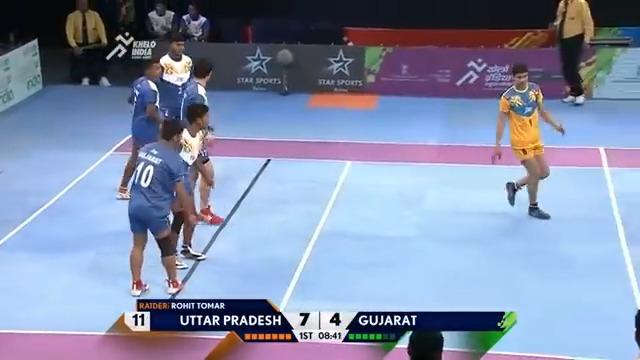Player: (126, 116, 198, 297), (179, 58, 223, 224), (115, 56, 163, 199), (552, 0, 595, 105), (155, 31, 194, 121)
Raider: (491, 62, 565, 219)
referee: (64, 0, 111, 86)
